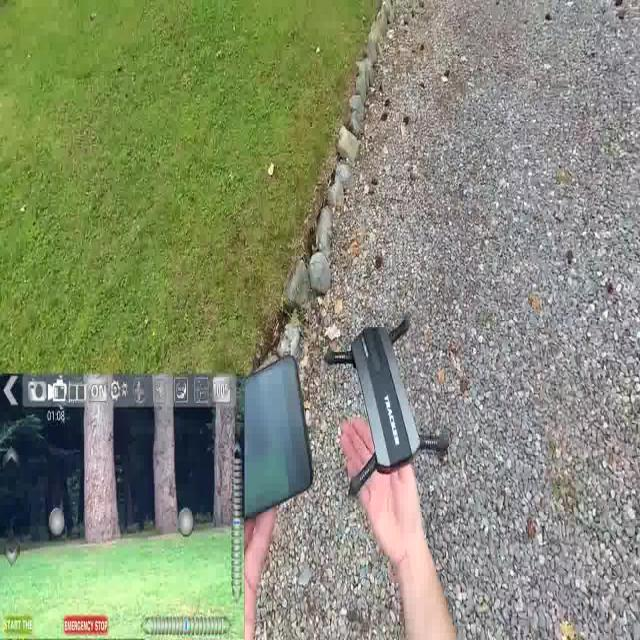drones: (316, 310, 464, 502)
